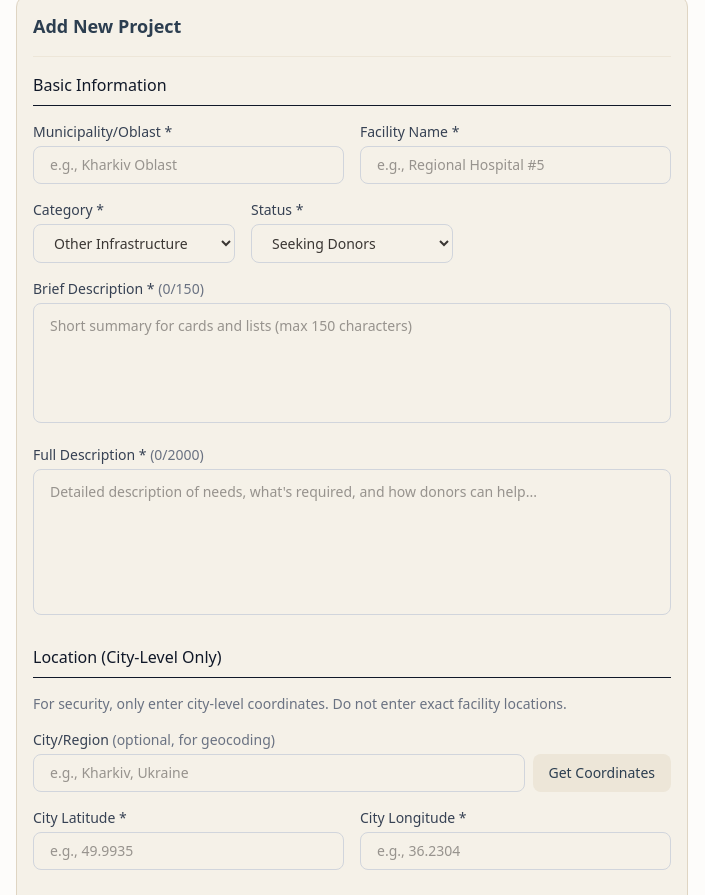
Test case: ProjectForm › Validation › shows error for invalid latitude
Type "999" into the field with placeholder "e.g., 49.9935" at (188, 851), box [33,832,344,870]
(page scrolled)
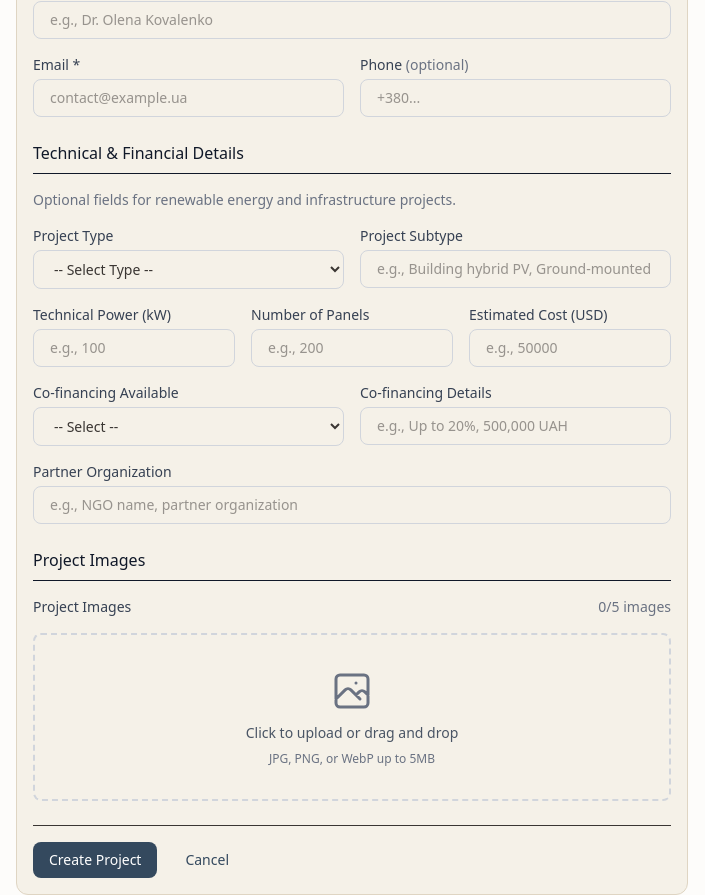
Click the button "Create Project" at (95, 860), box [33,842,157,878]
(page scrolled)
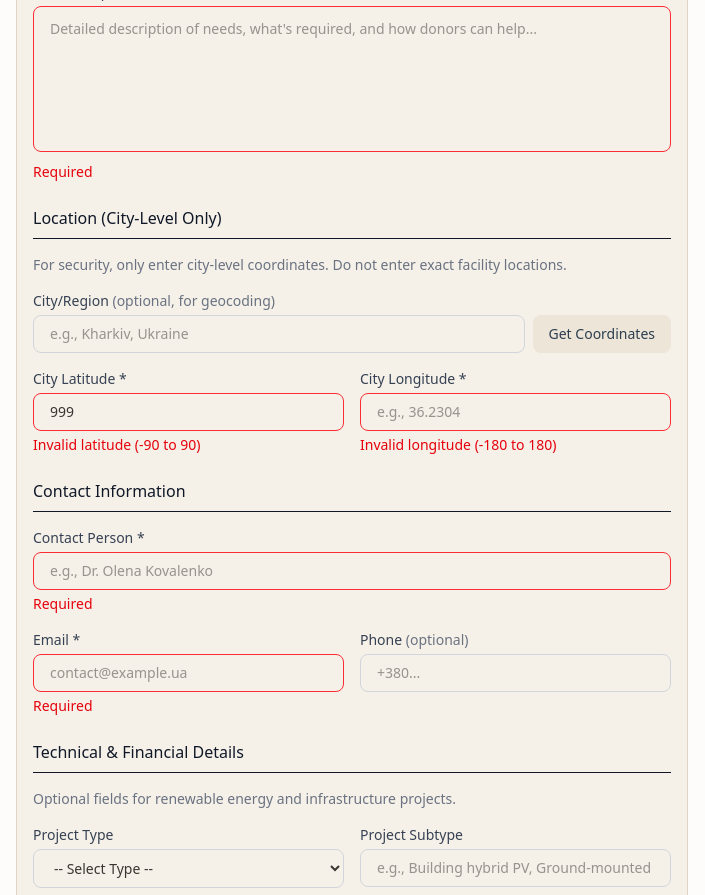
Now the text "Invalid latitude (-90 to 90)" is shown, box [33,435,201,454]
